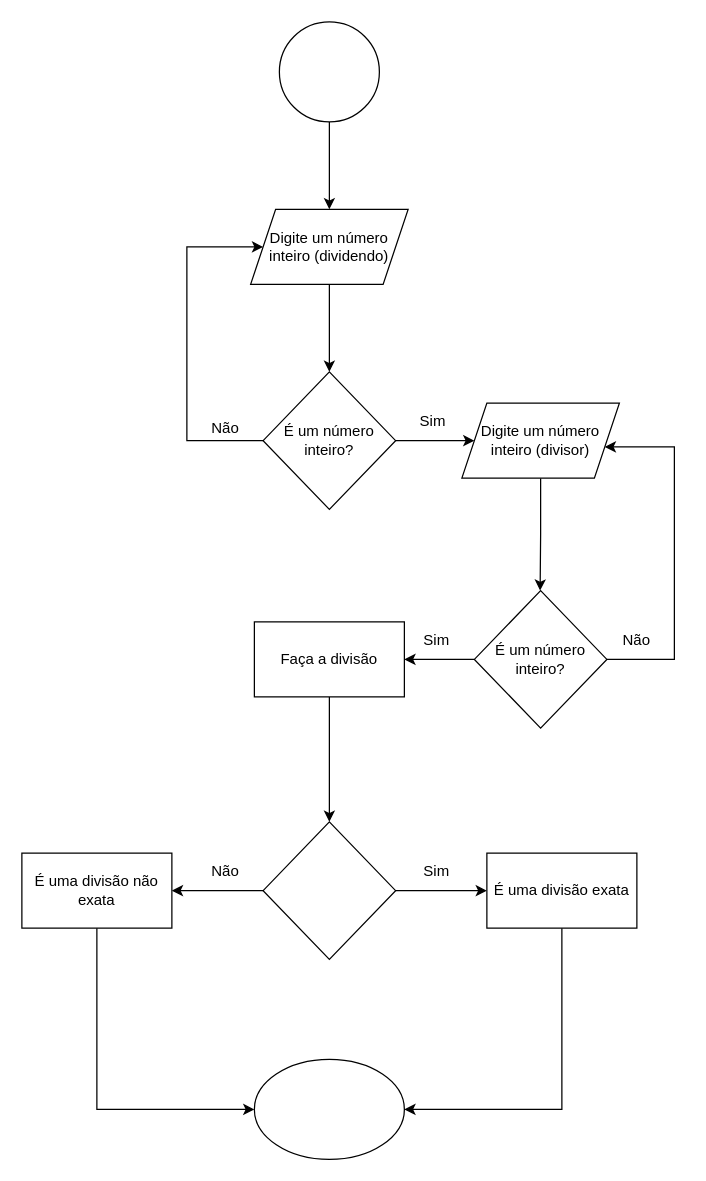
The diagram is 706 pixels wide and 1181 high, and some of its shapes have lost their labels. The centre of each missing label's shape, as x and y in pixels:
Fim: point (328, 1108)
Início: point (328, 71)
O resultado é 0?: point (329, 890)
